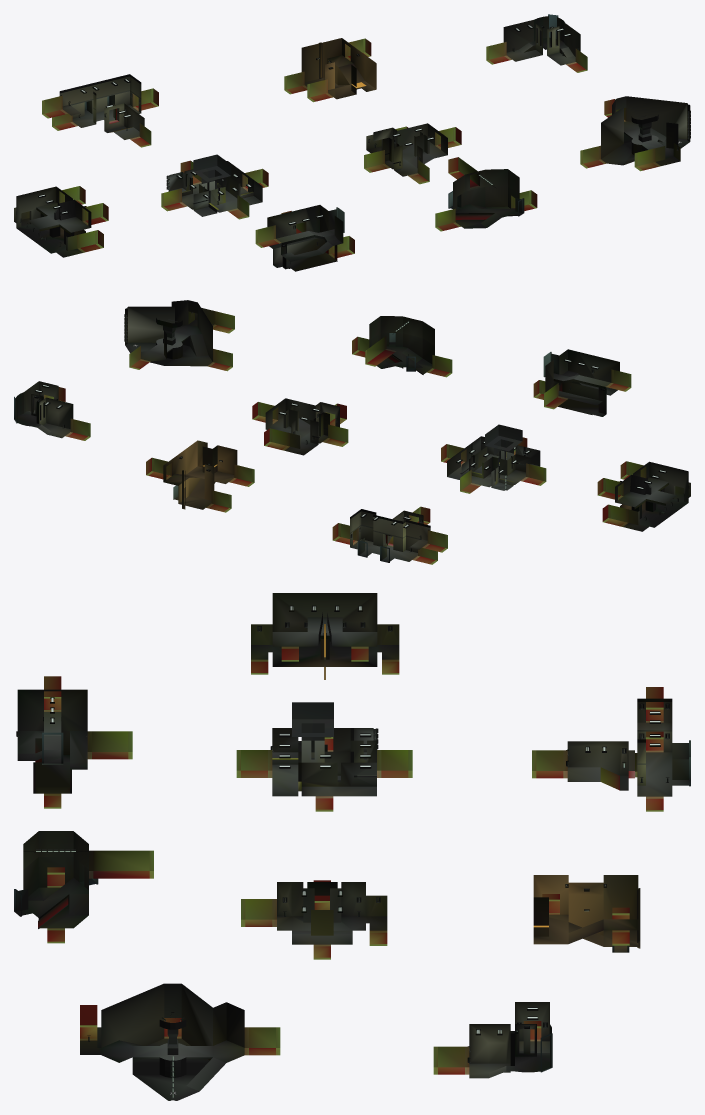
File: PTP.glb
3 renders of one model, top to bottom at view 1: azimuth 30°, elevation 25°; view 2: azimuth 150°, elevation 25°; view 3: azimuth 270°, elevation 25°, orthographic. The views are drawn at different scales.
Visible parts, largest first — view 1: PTP; view 2: PTP; view 3: PTP.
Boxes of the visible parts, bbox=[...] form: PTP: bbox=[14, 14, 690, 271]; PTP: bbox=[14, 300, 690, 564]; PTP: bbox=[14, 593, 690, 1100].
Size of the model in its own units: 170 by 15.24 by 109.
